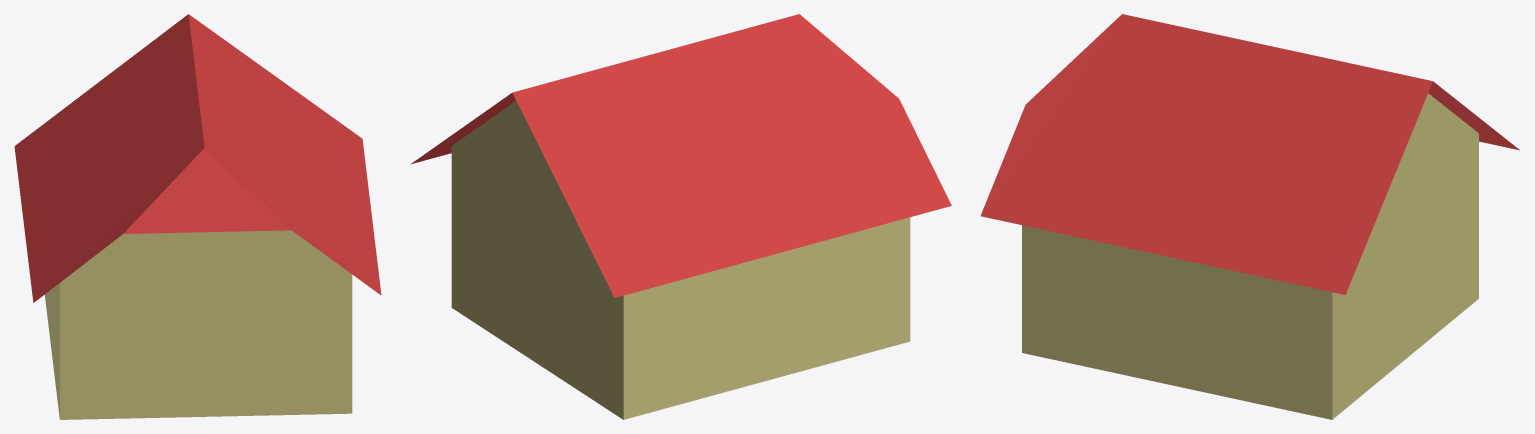
3 views of the same model, side by side, from view 1: azimuth 30°, elevation 25°; view 2: azimuth 150°, elevation 25°; view 3: azimuth 270°, elevation 25° (orthographic). The views are drawn at different scales.
Visible parts, largest first — view 1: group_5, group_3, group_4; view 2: group_3, group_5, group_4; view 3: group_3, group_5, group_4.
Boxes of the visible parts, x1,y1,x2,y2 form: group_5: [44, 230, 352, 419]; group_3: [14, 14, 379, 302]; group_4: [35, 14, 381, 301]; group_3: [413, 14, 951, 297]; group_5: [451, 101, 910, 419]; group_4: [410, 85, 951, 225]; group_3: [981, 14, 1461, 294]; group_5: [1022, 93, 1478, 419]; group_4: [980, 59, 1519, 294].
Bounding box in the file's own units: 25.79 × 26.34 × 15.28.
